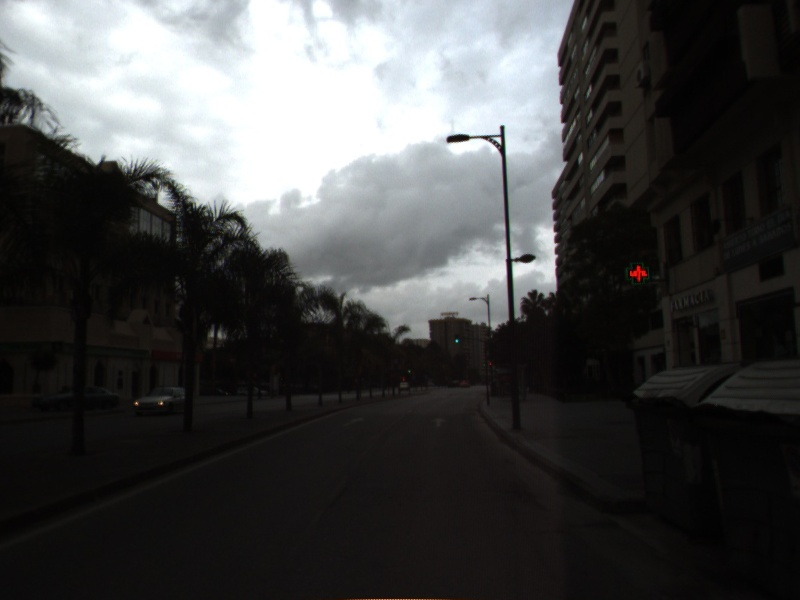STRAIGHT: (341, 414, 368, 429), (429, 414, 449, 429)
